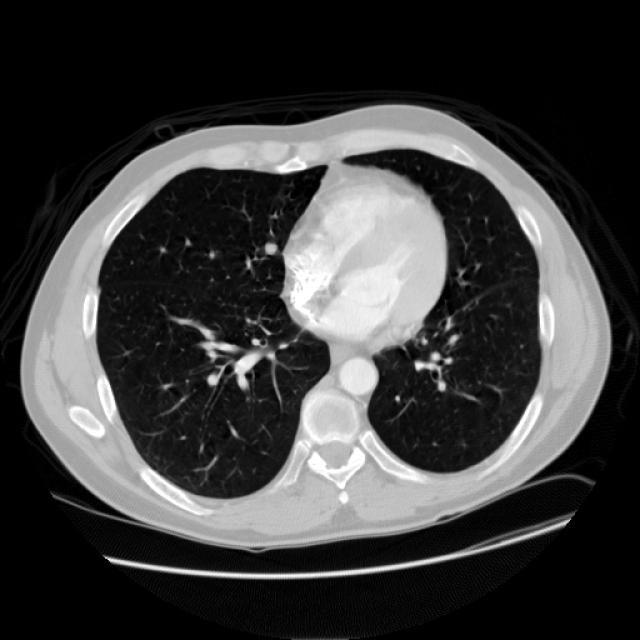nodule: (253, 231, 285, 264)
